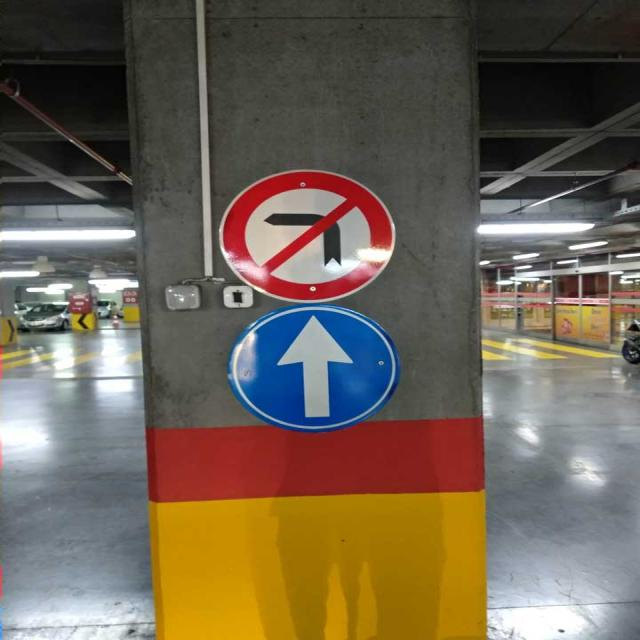soladonulmez: (219, 168, 398, 304)
